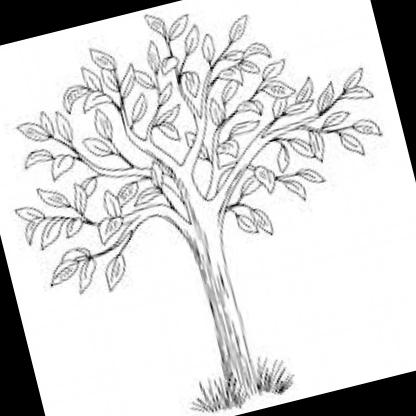branch_sharp: (26, 0, 357, 281)
trunk_bark: (193, 260, 256, 353)
